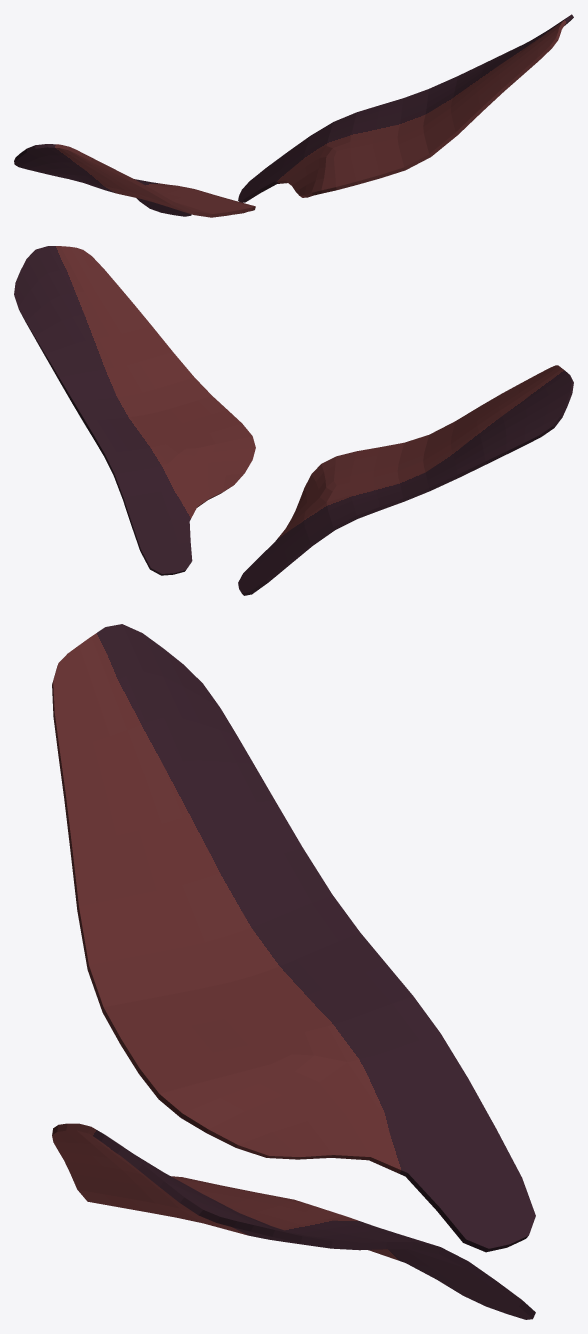
Rendered from eaglewings.fbx.
3 renders of one model, top to bottom at view 1: azimuth 30°, elevation 25°; view 2: azimuth 150°, elevation 25°; view 3: azimuth 270°, elevation 25°, orthographic. The views are drawn at different scales.
Visible parts, largest first — view 1: wings; view 2: wings; view 3: wings.
Part boxes in pixels (x1,y1,x2,y2): wings: (14,14,573,217); wings: (14,246,573,595); wings: (52,624,535,1319).
Bounding box in the file's own units: 677 × 237 × 260.
